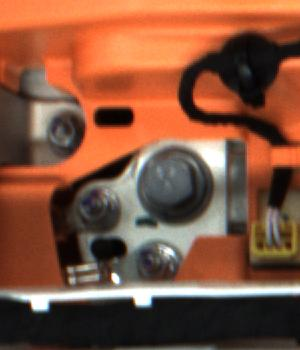nut_b: (139, 148, 212, 219)
